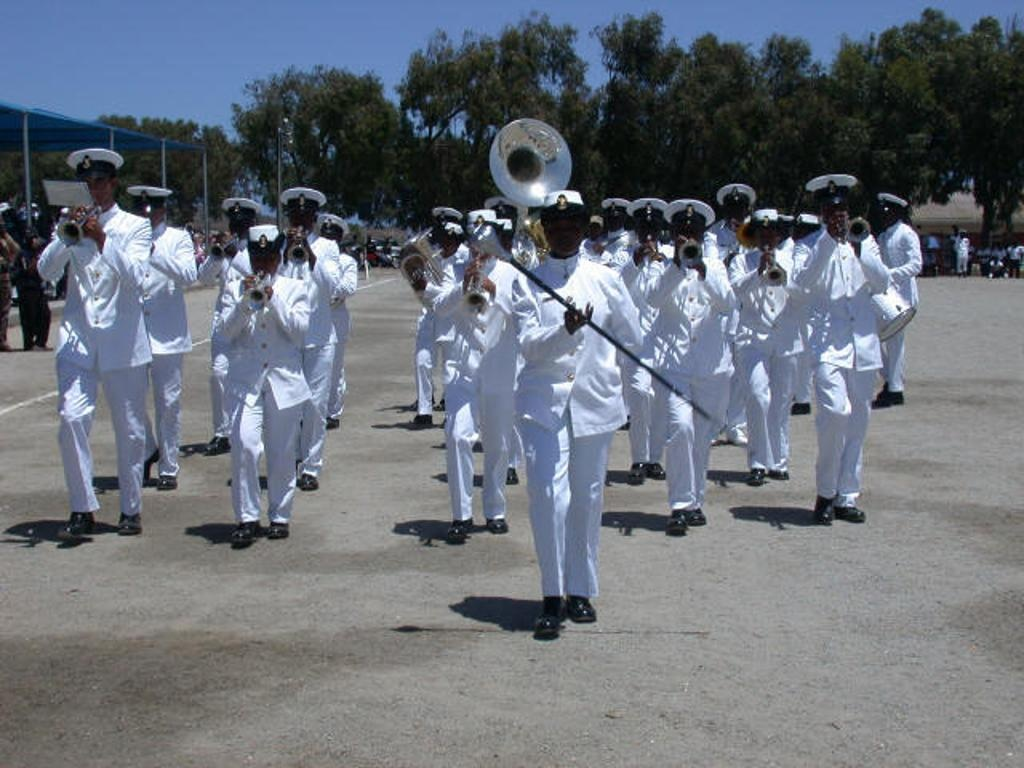human_face: (544, 214, 582, 250), (78, 174, 110, 200), (676, 222, 702, 250), (821, 200, 847, 226), (250, 248, 276, 274), (134, 198, 158, 224), (288, 208, 312, 234), (492, 208, 516, 234), (636, 222, 664, 242), (228, 215, 250, 237), (755, 226, 777, 248), (318, 230, 338, 248), (438, 235, 458, 253), (726, 200, 744, 220), (607, 210, 623, 228), (438, 218, 454, 232), (2, 209, 14, 227), (882, 206, 894, 222), (589, 225, 599, 237), (26, 232, 36, 243), (960, 233, 962, 237)
